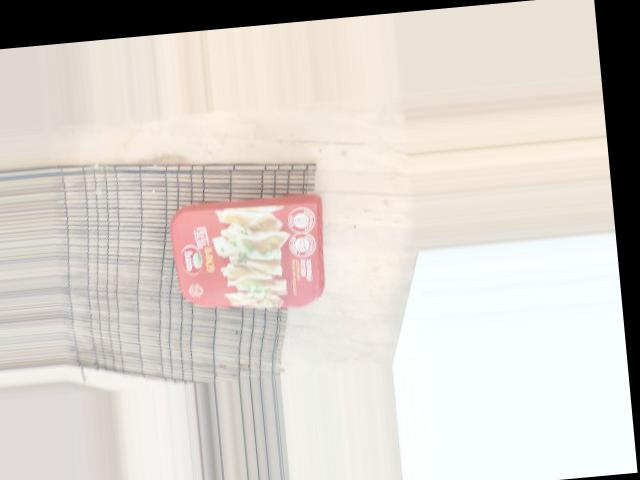cheese: (166, 185, 341, 306)
